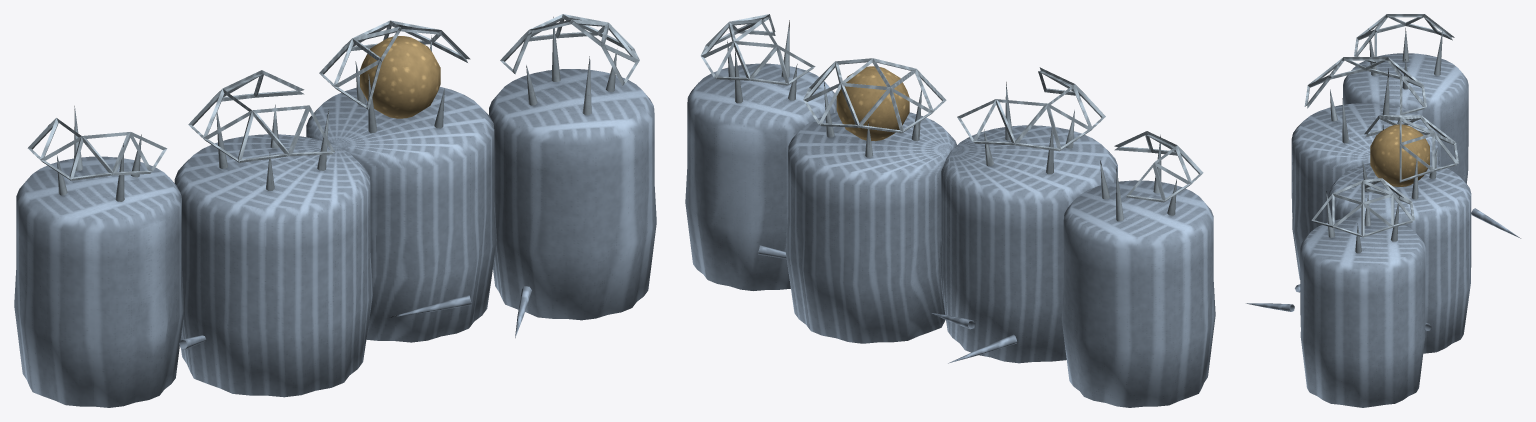
Rendered from rare_giant_husk.glb.
The picture shows the model from 3 angles, left to right: view 1: azimuth 30°, elevation 25°; view 2: azimuth 150°, elevation 25°; view 3: azimuth 270°, elevation 25°; orthographic projection. The views are drawn at different scales.
Parts seen in each view (by area): view 1: RareGiantHusk; view 2: RareGiantHusk; view 3: RareGiantHusk.
Part boxes in pixels (x1=…): RareGiantHusk: x1=14, y1=14, x2=656, y2=407; RareGiantHusk: x1=685, y1=14, x2=1215, y2=407; RareGiantHusk: x1=1246, y1=14, x2=1520, y2=407.
Size of the model in its own units: 9.07 by 4.49 by 4.86.
Materials: 3 (3 with a texture image).
